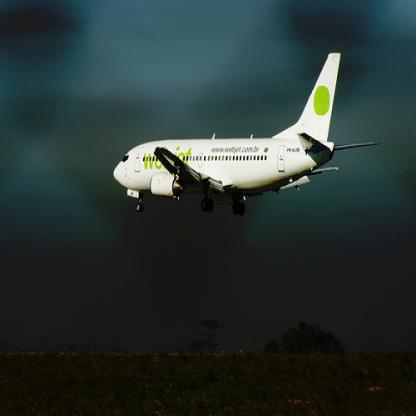aeroplane: (113, 53, 380, 218)
